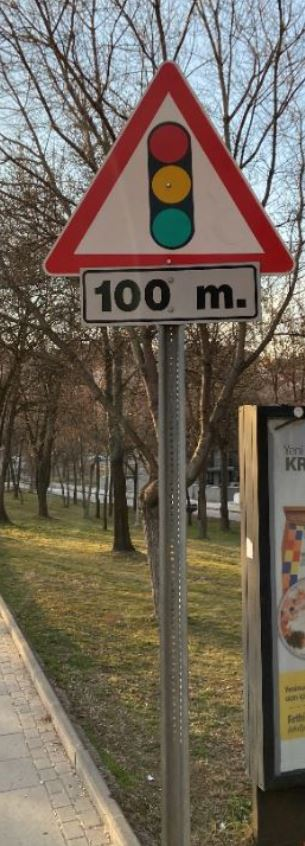Trafikisiklari: (68, 64, 294, 282)
